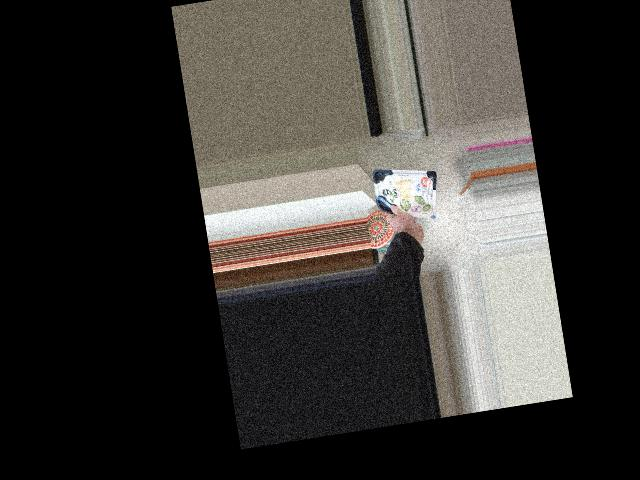cheese: (384, 177, 438, 234)
